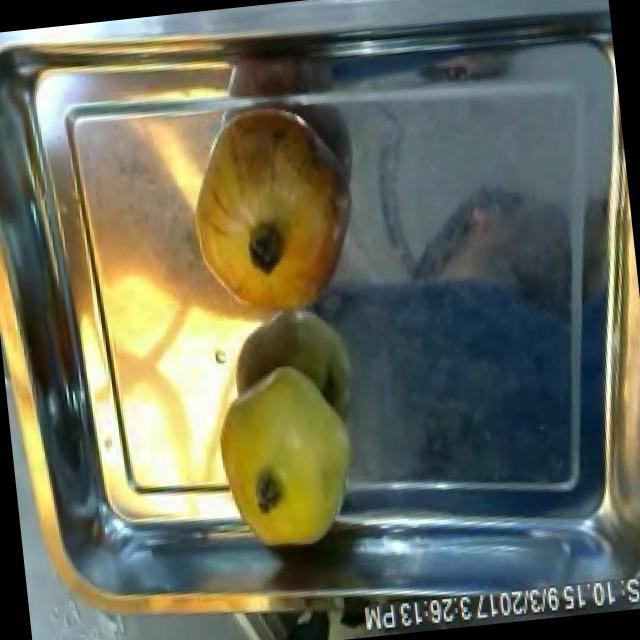fruit: (171, 90, 368, 333), (200, 347, 372, 562)
